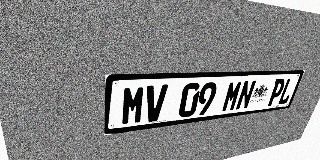0: (177, 83, 202, 118)
9: (195, 82, 218, 116)
L: (277, 78, 297, 105)
M: (121, 85, 146, 126), (221, 81, 243, 112)
N: (235, 80, 257, 110)
P: (266, 78, 287, 106)
V: (143, 84, 168, 123)
